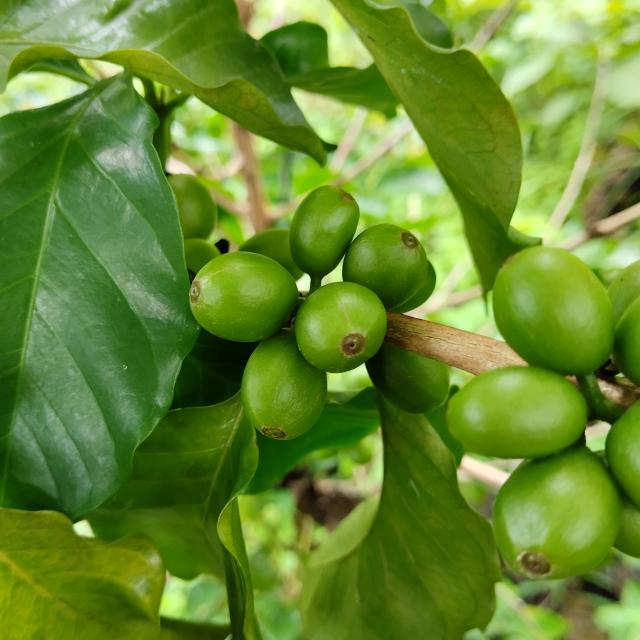green: (493, 445, 622, 580), (493, 246, 617, 376), (447, 367, 589, 459), (189, 251, 298, 342), (240, 329, 327, 440), (294, 281, 387, 373), (343, 223, 429, 309), (290, 185, 360, 276), (365, 344, 450, 414), (607, 401, 640, 510), (392, 261, 437, 313)
